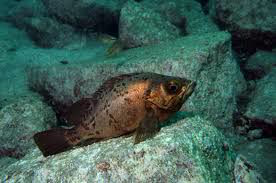mebaru: (31, 49, 194, 146)
